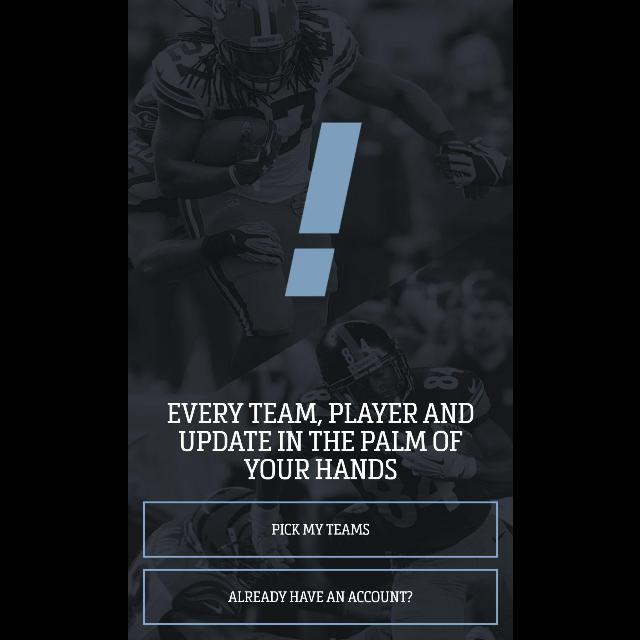backgroundimage: (128, 1, 512, 640)
text: (167, 402, 473, 480)
textbutton: (142, 568, 498, 626), (142, 500, 498, 558)
